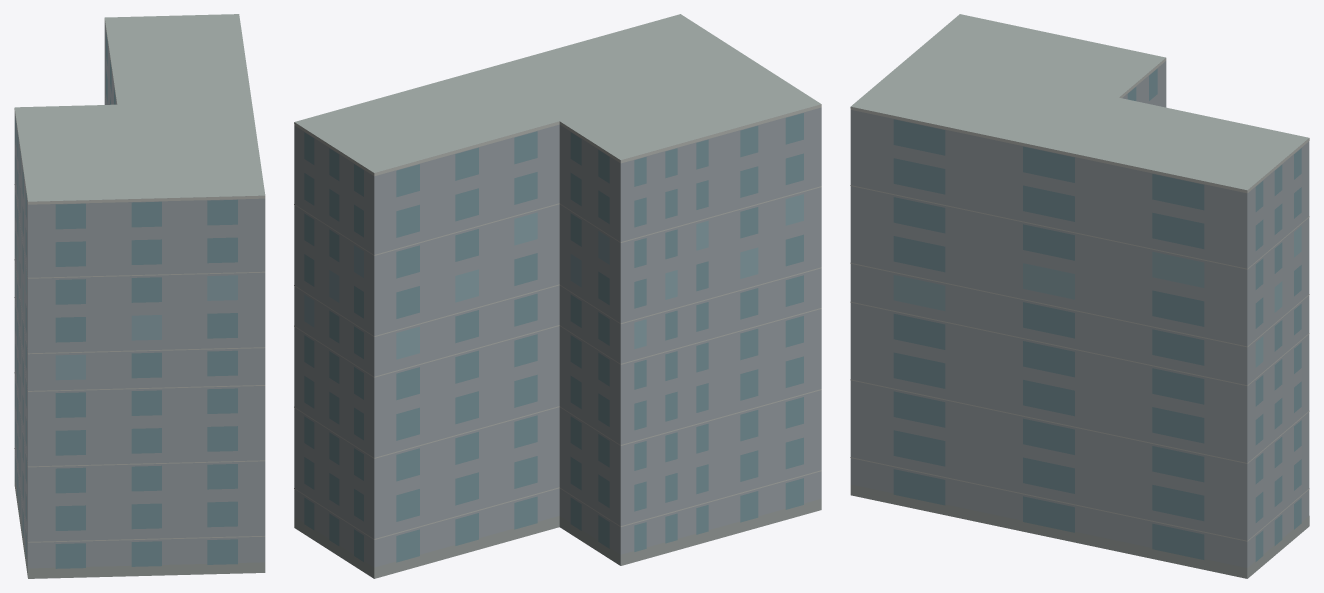
File: residential-352e4a5c-b75a-4e6d-b20b-99340da7f008.glb
3 renders of one model, left to right at view 1: azimuth 30°, elevation 25°; view 2: azimuth 150°, elevation 25°; view 3: azimuth 270°, elevation 25°, orthographic. The views are drawn at different scales.
Parts seen in each view (by area): view 1: residential-352e4a5c-b75a-4e6d-b20b-99340da7f008.tmp; view 2: residential-352e4a5c-b75a-4e6d-b20b-99340da7f008.tmp; view 3: residential-352e4a5c-b75a-4e6d-b20b-99340da7f008.tmp.
Boxes of the visible parts, x1=… form: residential-352e4a5c-b75a-4e6d-b20b-99340da7f008.tmp: x1=14, y1=14, x2=265, y2=578; residential-352e4a5c-b75a-4e6d-b20b-99340da7f008.tmp: x1=294, y1=14, x2=821, y2=578; residential-352e4a5c-b75a-4e6d-b20b-99340da7f008.tmp: x1=850, y1=14, x2=1309, y2=578.
Bounding box in the file's own units: 29.7 × 30.5 × 32.66.
